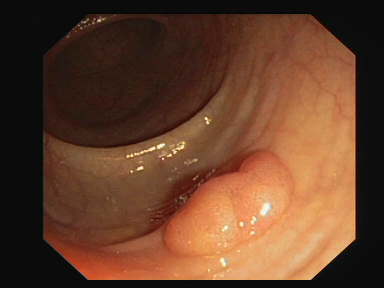polyp: (137, 135, 315, 260)
